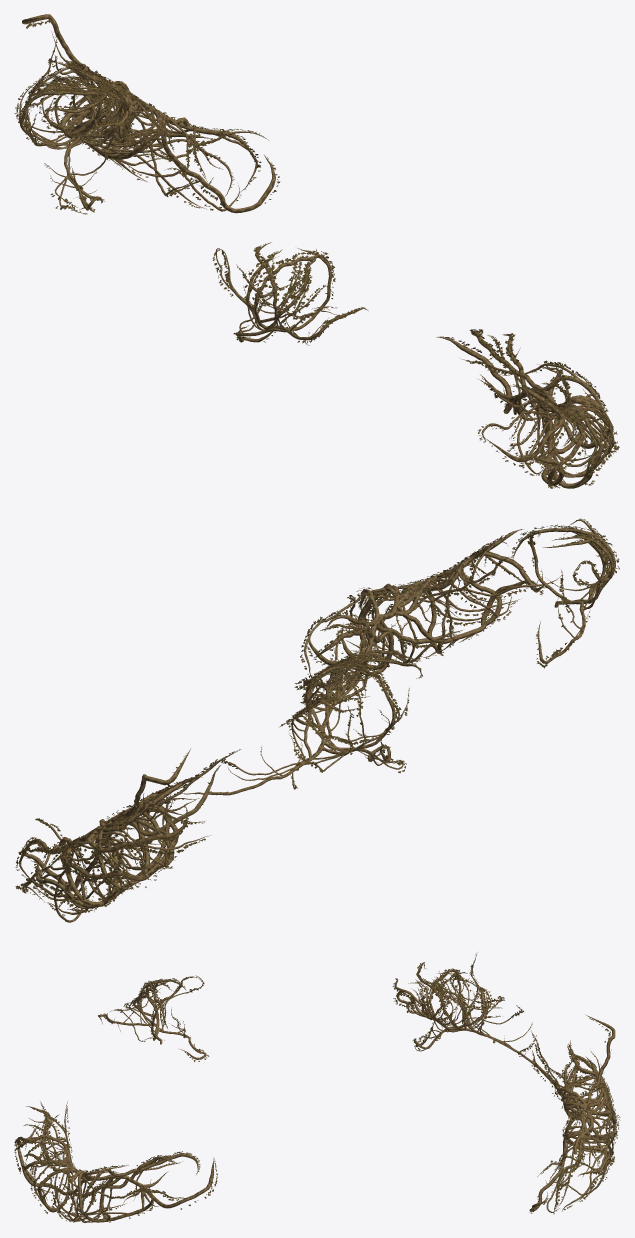
Rendered from env_Roots_serpent.FBX.
3 views of the same model, one above another, from view 1: azimuth 30°, elevation 25°; view 2: azimuth 150°, elevation 25°; view 3: azimuth 270°, elevation 25° (orthographic). The views are drawn at different scales.
Parts seen in each view (by area): view 1: env_Roots_serpent; view 2: env_Roots_serpent; view 3: env_Roots_serpent.
Boxes of the visible parts, bbox=[...] form: env_Roots_serpent: bbox=[14, 14, 619, 488]; env_Roots_serpent: bbox=[15, 518, 619, 922]; env_Roots_serpent: bbox=[14, 953, 620, 1222].
Bounding box in the file's own units: 2832 × 2354 × 6647.
Materials: 2 (2 with a texture image).
